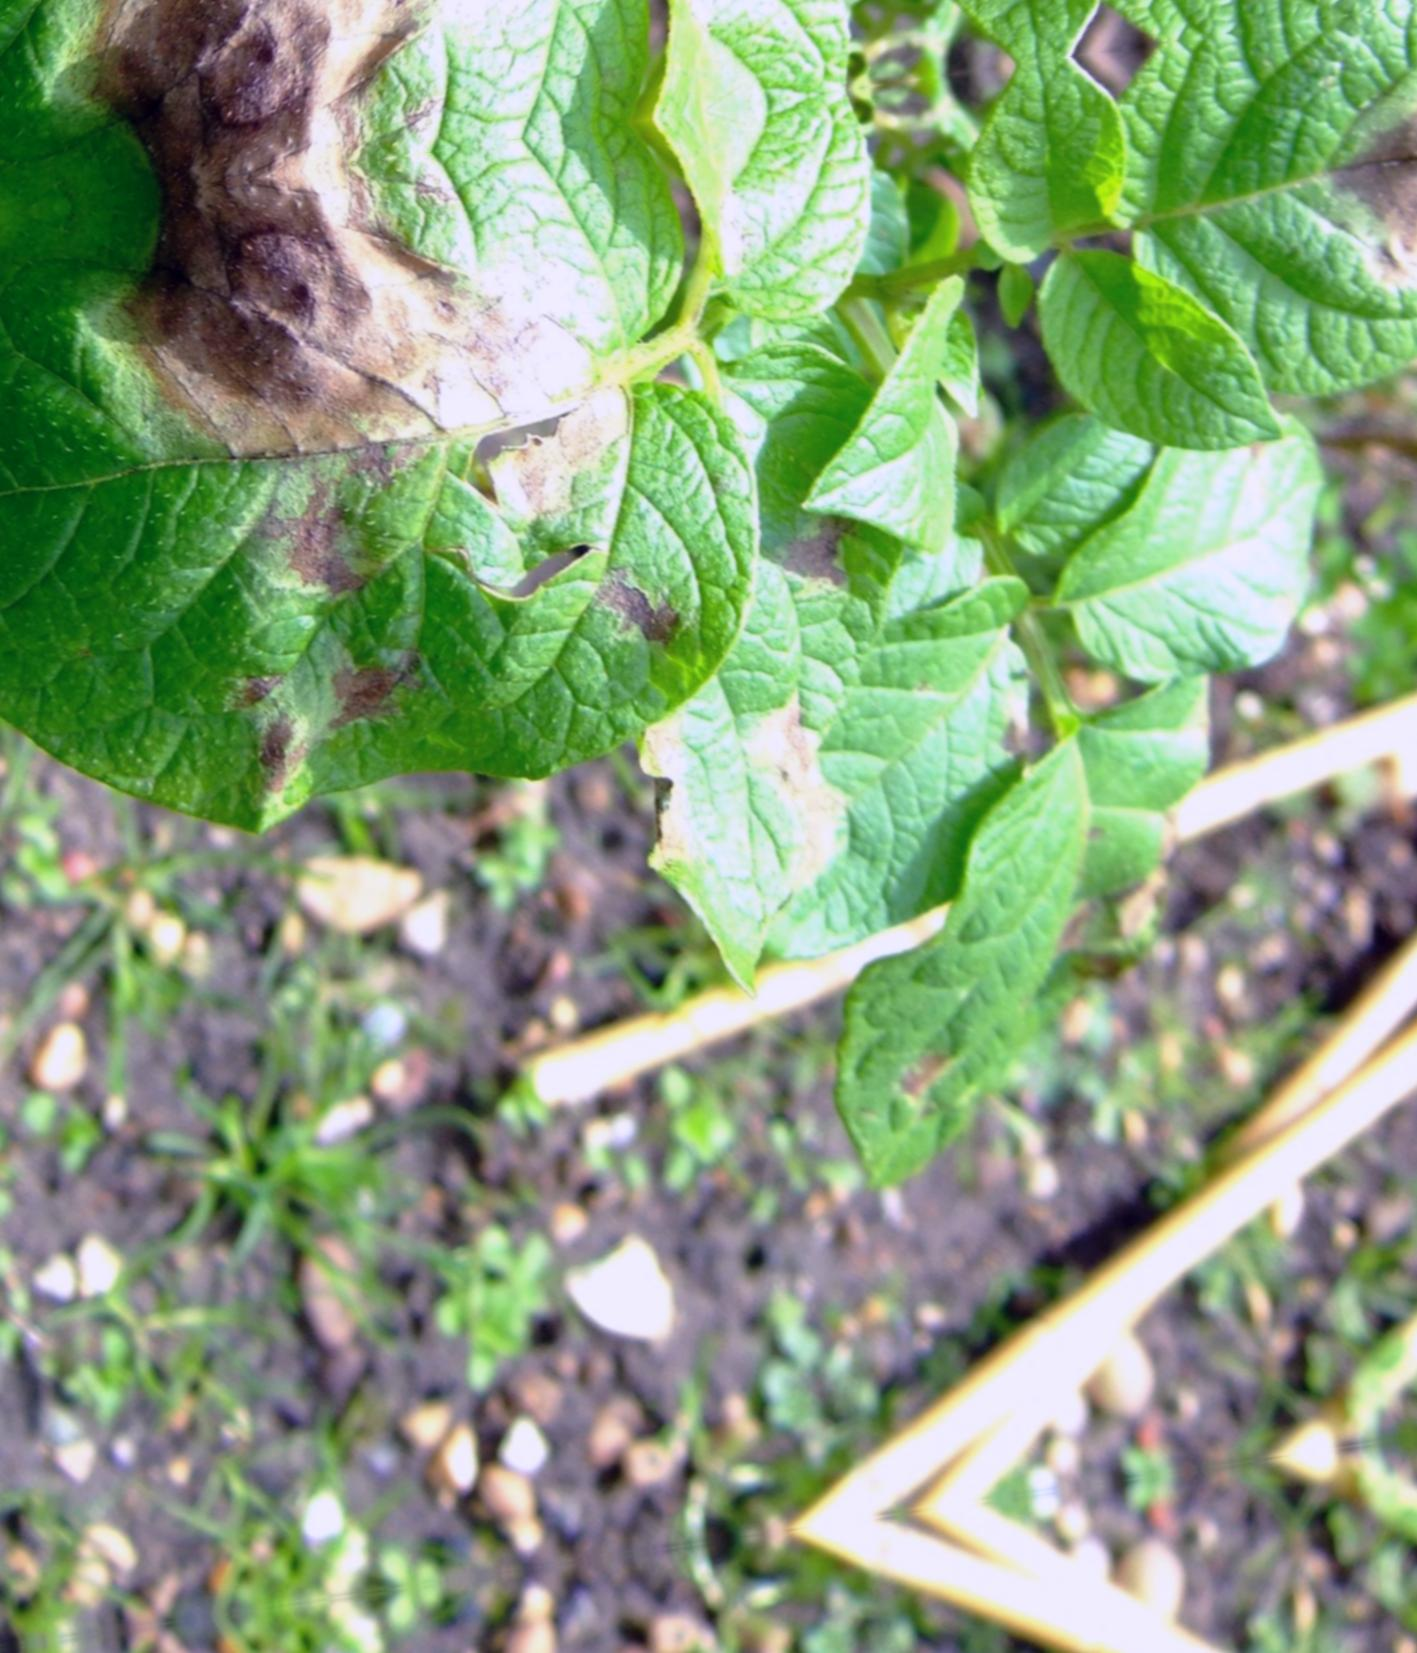Tomato leaf late blight: (0, 112, 791, 923)
